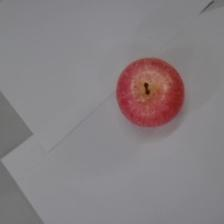red: (115, 56, 184, 128)
